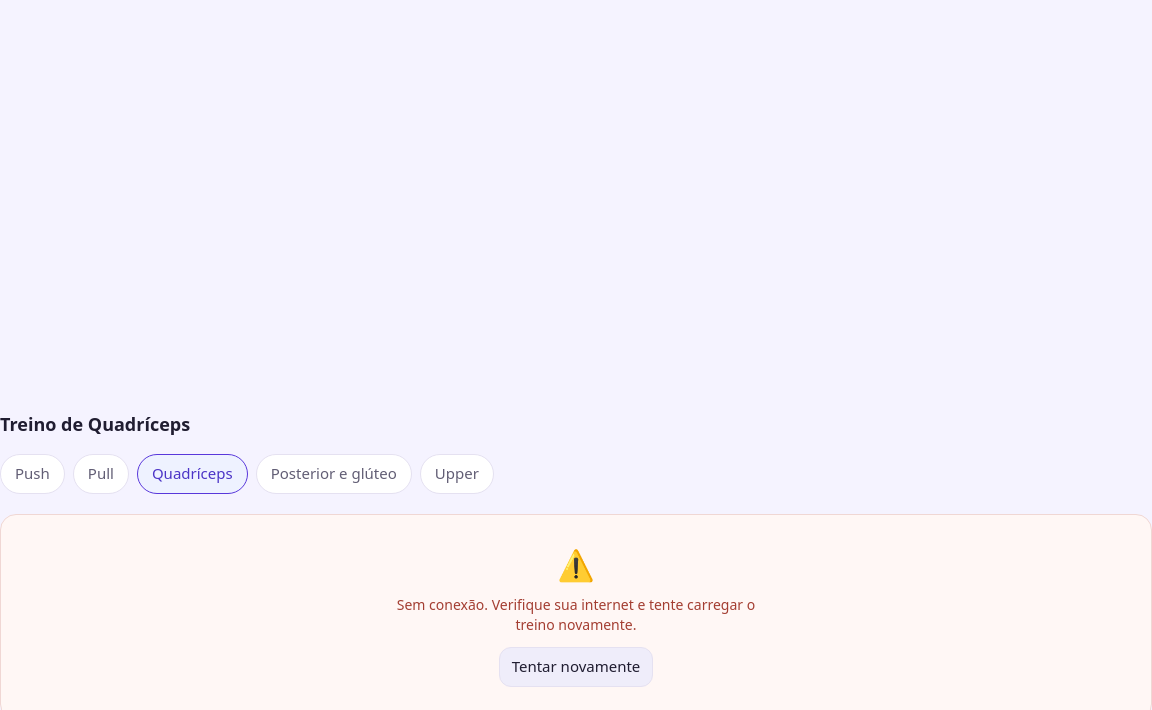
it: Treino › estado de erro tem "Tentar novamente" que busca de novo
(page scrolled)
Check: the message shows "Sem conexão", box [397,595,755,634]
Click the button "Tentar novamente" at (576, 667), box [499,647,653,687]
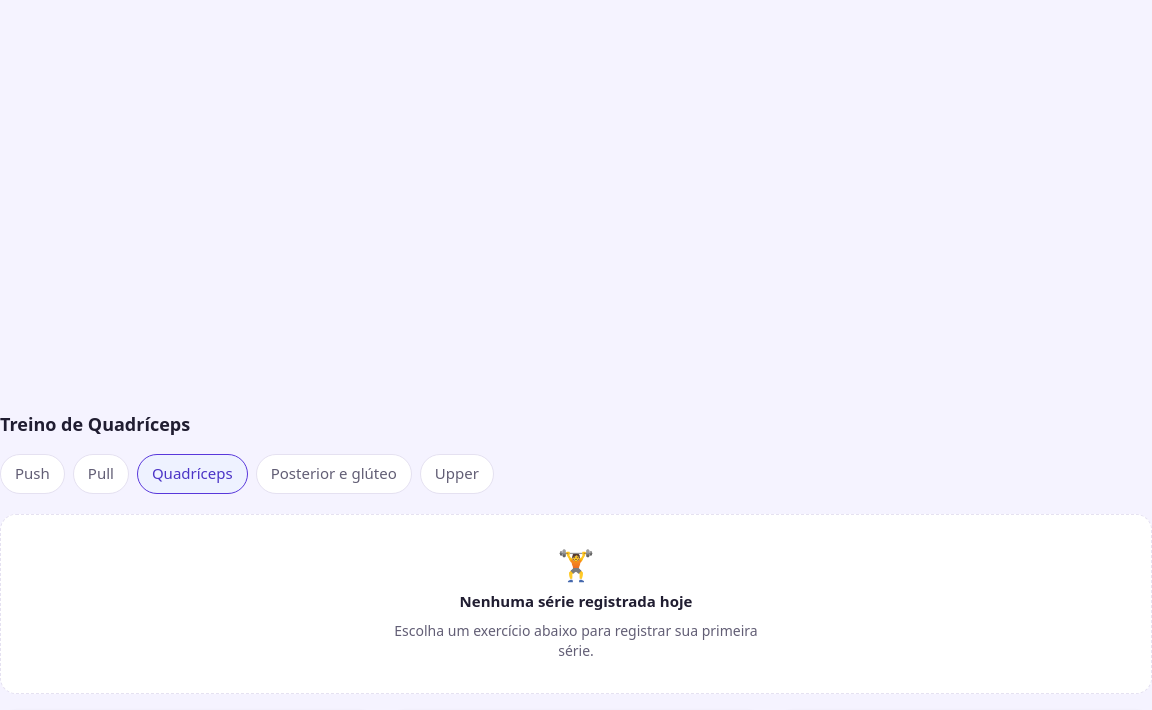
Check: the text "Nenhuma série registrada hoje" is shown, box [460,591,692,613]
